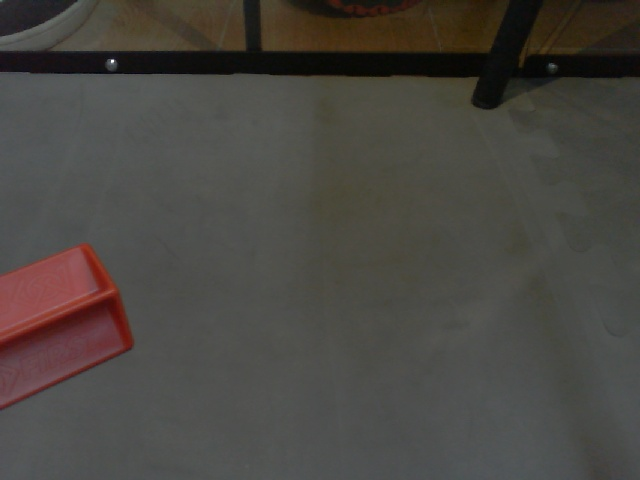RedSample: (1, 240, 138, 408)
